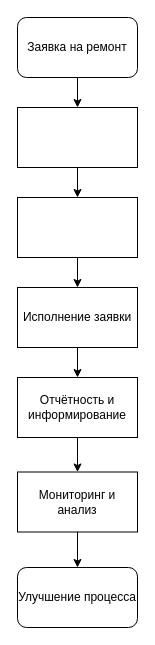
This 155x645 diagram has some shape labels left out. The shapes that lost their labels are listed below. From the top down, each one's box as (x1, y1, x2, y2) in pixels, then its label:
(16, 106, 138, 168): Регистрация заявки
(16, 196, 138, 258): Обработка заявки
